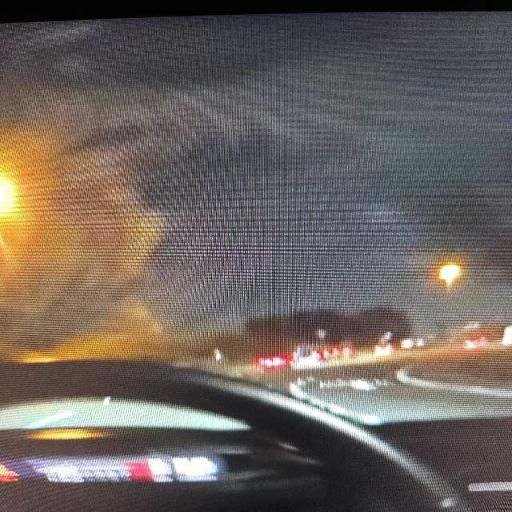car: (0, 10, 511, 511)
